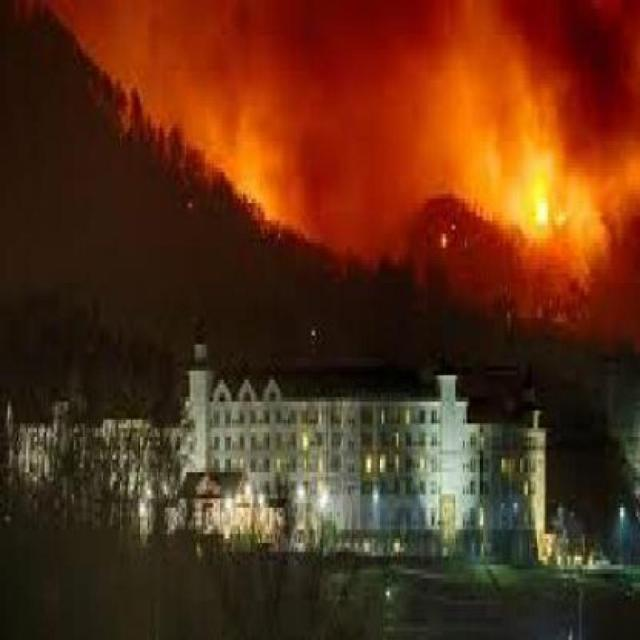Fire: (526, 153, 582, 270)
Smoke: (109, 0, 522, 302)
